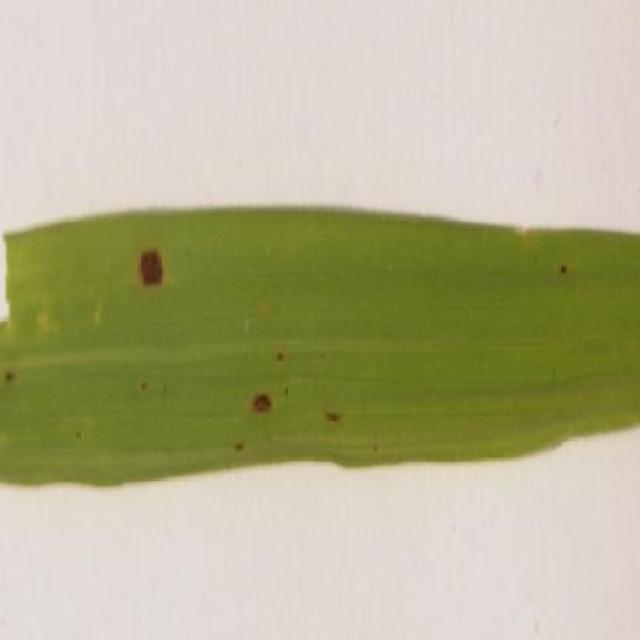Leaf_Blast: (126, 219, 179, 313), (242, 358, 282, 442), (318, 374, 351, 444), (0, 340, 25, 415), (551, 241, 577, 294), (381, 247, 397, 293)
